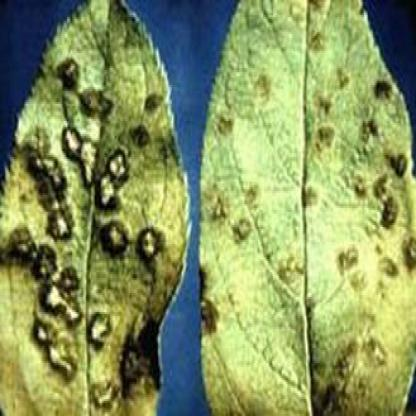Apple Scab Leaf: (195, 2, 415, 414), (1, 2, 200, 414)
